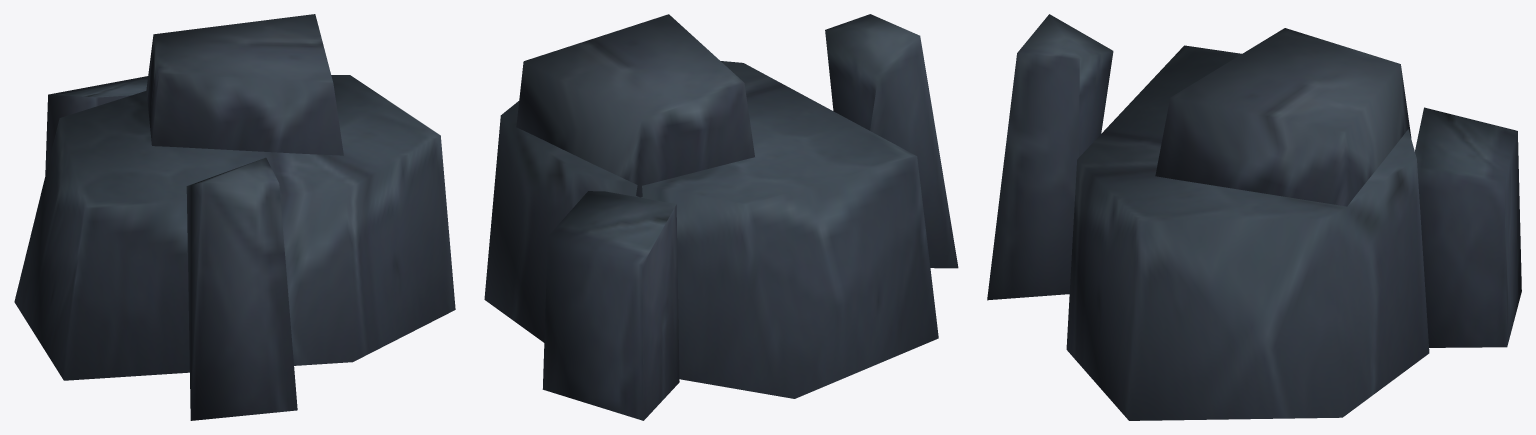
The model's file is Area_12_2.fbx.
3 views of the same model, side by side, from view 1: azimuth 30°, elevation 25°; view 2: azimuth 150°, elevation 25°; view 3: azimuth 270°, elevation 25° (orthographic). The views are drawn at different scales.
Parts seen in each view (by area): view 1: Area_12_2; view 2: Area_12_2; view 3: Area_12_2.
Part boxes in pixels (x1,y1,x2,y2): Area_12_2: (14,14,455,420); Area_12_2: (484,14,958,420); Area_12_2: (987,14,1521,420).
Bounding box in the file's own units: 3094 × 1943 × 3495.
